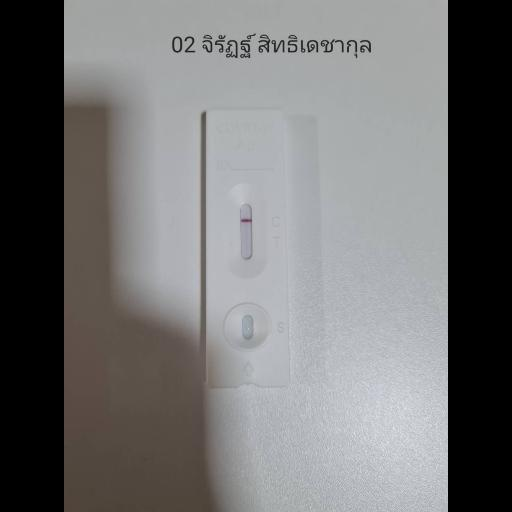Neg: (204, 108, 286, 388)
